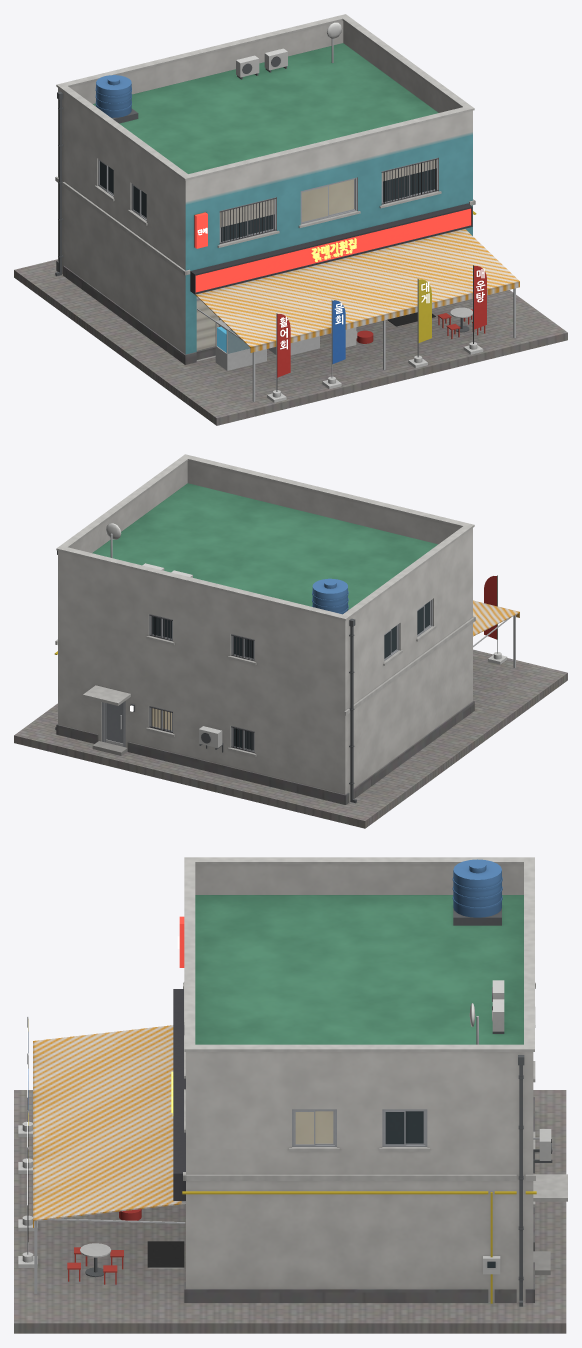
The model's file is IlsanHoetjip03.fbx.
3 renders of one model, top to bottom at view 1: azimuth 30°, elevation 25°; view 2: azimuth 150°, elevation 25°; view 3: azimuth 270°, elevation 25°, orthographic. The views are drawn at different scales.
Parts seen in each view (by area): view 1: IlsanHoetjip03; view 2: IlsanHoetjip03; view 3: IlsanHoetjip03.
Part boxes in pixels (x1,y1,x2,y2): IlsanHoetjip03: (14,14,567,425); IlsanHoetjip03: (14,454,567,828); IlsanHoetjip03: (14,857,567,1333).
Bounding box in the file's own units: 15.9 × 9.1 × 15.95.
1 material, 1 textured.
